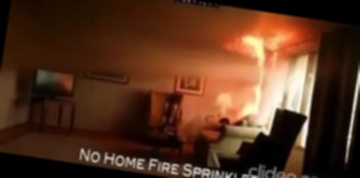fire: (208, 6, 294, 141)
